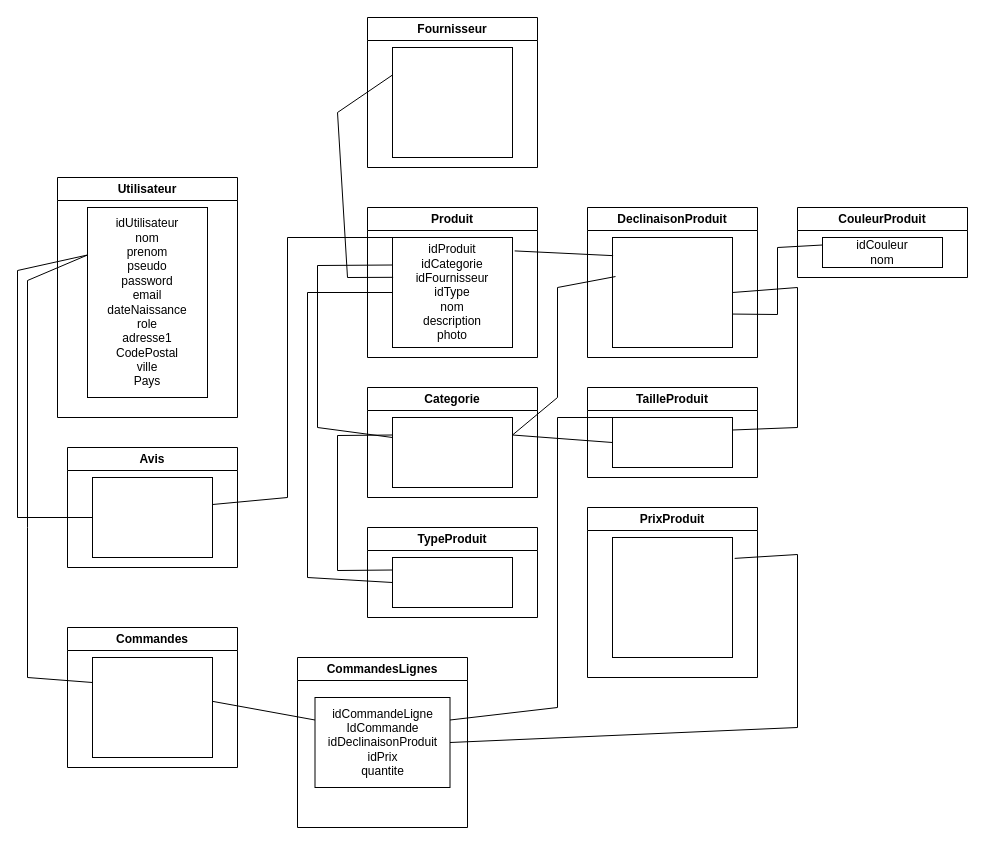
Image size: 985x845. Some labels were removed from this diagram. The shapes that lost their labels are listed below. From the top down, each one's centre as x and y in pixels, then its label:
At (452,102): "idFournisseur nom adresse1 adresse2 CodePostal ville Pays".
At (672,292): "IdDeclinaisonProduit idProduit idTaille idCouleur idPrix".
At (452,452): "idCategorie nom photo".
At (672,442): "idTaille idCategorie taille".
At (152,517): "idAvis idProduit idUtilisateur avis note".
At (452,582): "idType idCategorie nom".
At (672,597): "idPrix IdDeclinaisonProduit dateDebut dateFin prixBrut remise prixNet".
At (152,707): "idCommande idUtilisateur date(et heure) total modePaiment".
